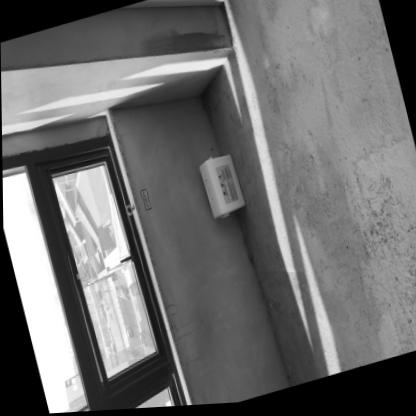DDL: (196, 154, 245, 221)
